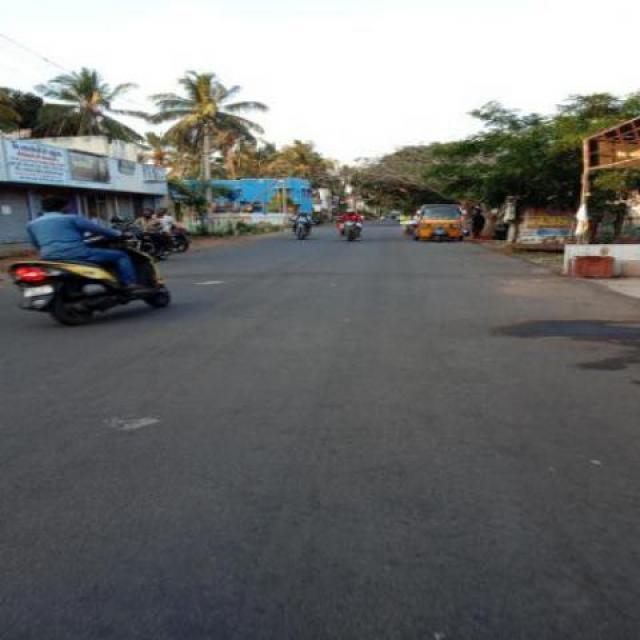Pothole: (104, 408, 168, 437)
Unmarked Bump: (155, 266, 565, 280)
